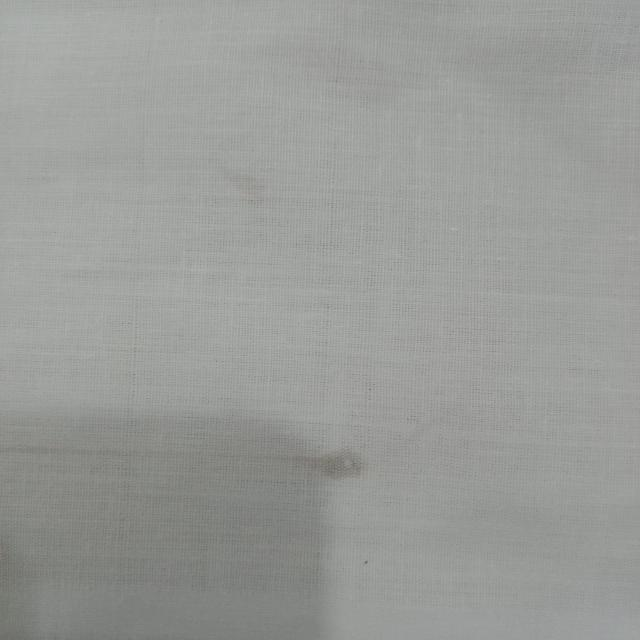stain: (285, 444, 382, 487), (202, 171, 285, 217)
